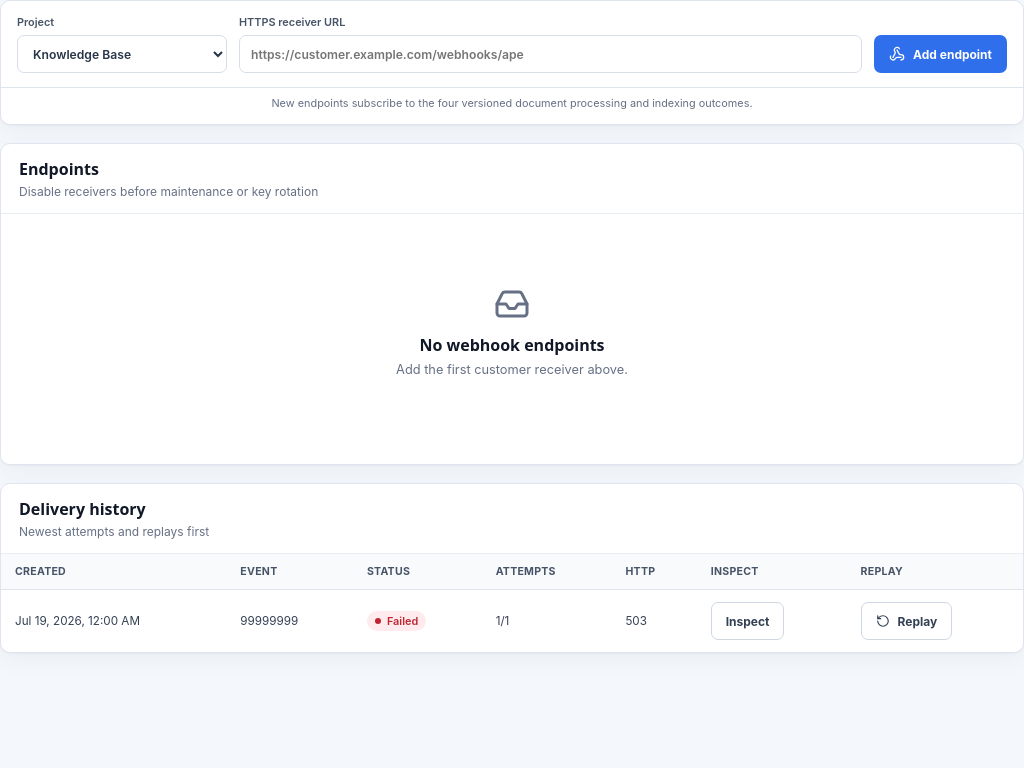
Scenario: inspects the immutable event and failed HTTP attempt
Click the button "Inspect" at coordinates (748, 621), box x1=711 y1=602 x2=784 y2=640
(page scrolled)
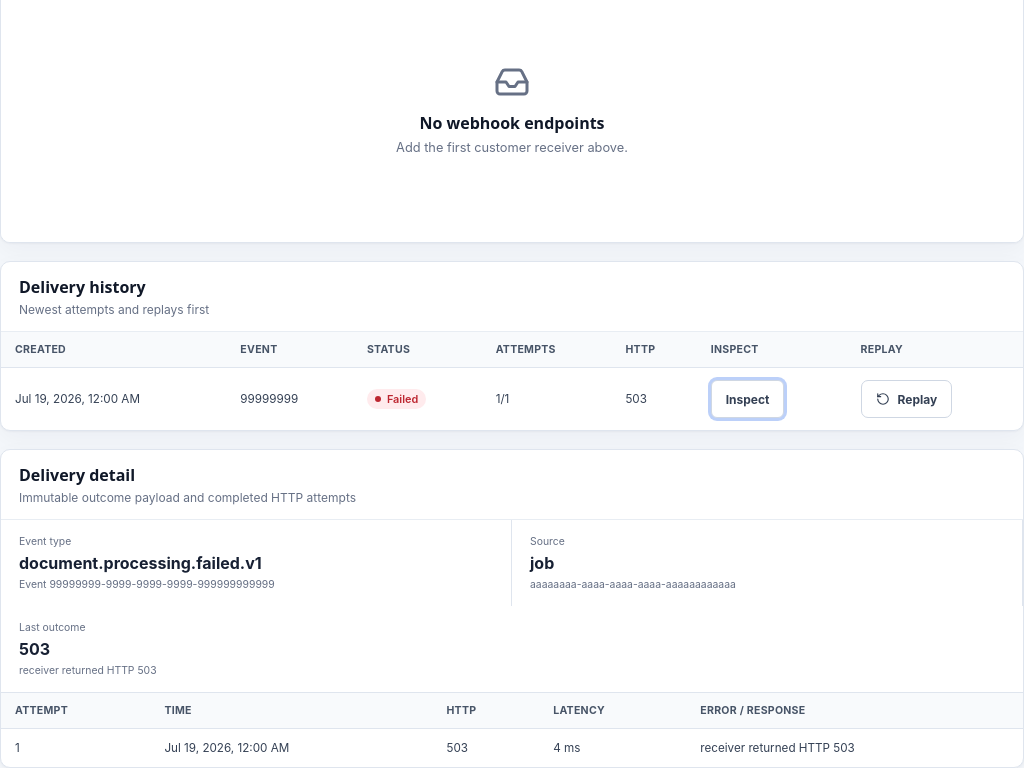
Expected: the text "document.processing.failed.v1" is shown, x1=19 y1=553 x2=262 y2=573
Expected: the text "receiver returned HTTP 503" is shown 2 times, x1=19 y1=664 x2=157 y2=677; x1=686 y1=728 x2=1023 y2=767
Expected: the text "4 ms" is shown, x1=539 y1=728 x2=686 y2=767
